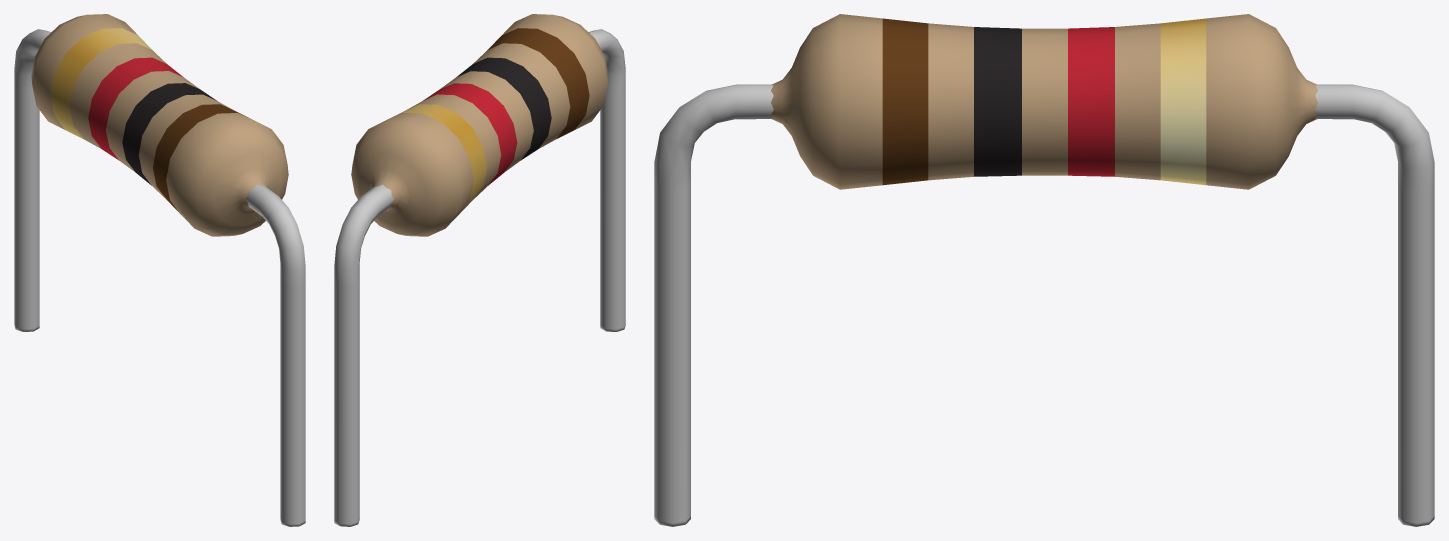
File: resistor.glb
3 renders of one model, left to right at view 1: azimuth 30°, elevation 25°; view 2: azimuth 150°, elevation 25°; view 3: azimuth 270°, elevation 25°, orthographic. The views are drawn at different scales.
Visible parts, largest first — view 1: resistorElement_C_002_DMSH, resistorElement_C_001_DMSH; view 2: resistorElement_C_002_DMSH, resistorElement_C_001_DMSH; view 3: resistorElement_C_002_DMSH, resistorElement_C_001_DMSH.
Part boxes in pixels (<box>): resistorElement_C_002_DMSH: <box>31,14,288,236</box>; resistorElement_C_001_DMSH: <box>14,29,305,526</box>; resistorElement_C_002_DMSH: <box>351,14,608,236</box>; resistorElement_C_001_DMSH: <box>334,29,625,526</box>; resistorElement_C_002_DMSH: <box>771,14,1317,189</box>; resistorElement_C_001_DMSH: <box>654,84,1434,526</box>.
Size of the model in its own units: 0.0024 by 0.00749 by 0.0107.
2 materials, 1 textured.
